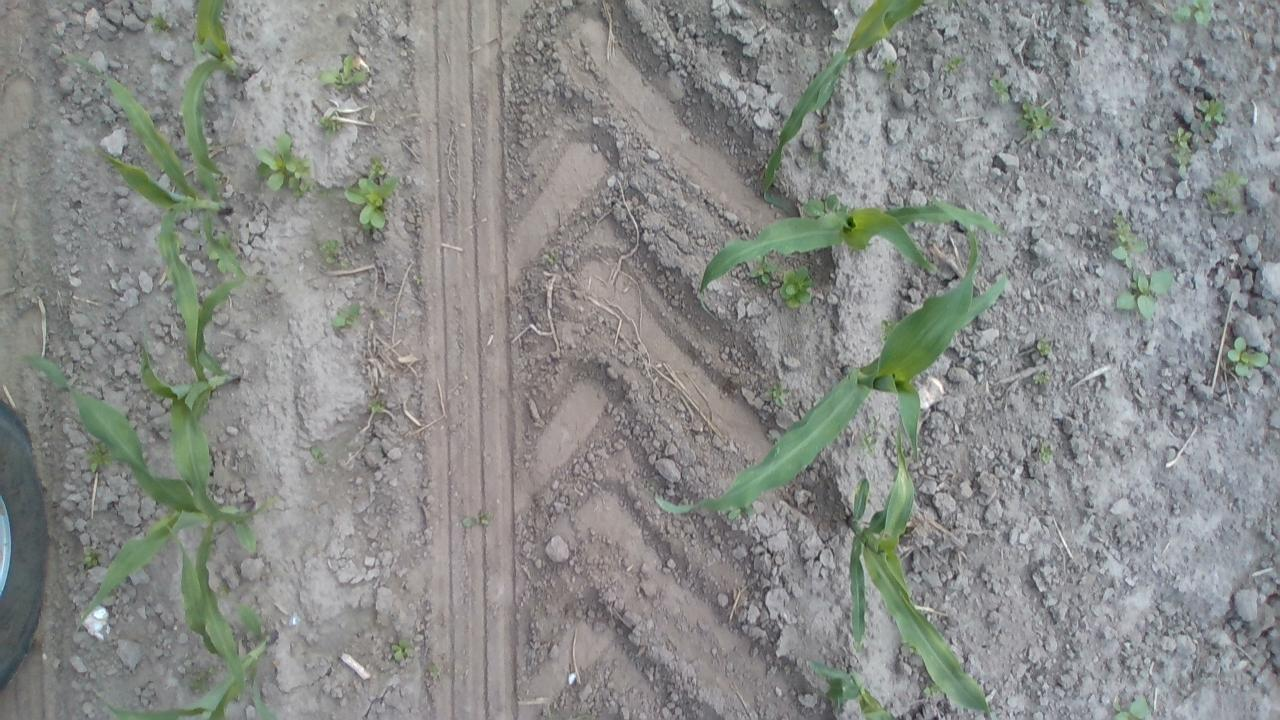Maize: (650, 225, 1011, 520), (22, 352, 268, 634), (63, 55, 233, 373), (694, 187, 1010, 322), (846, 428, 990, 720), (754, 0, 929, 217), (92, 519, 276, 720), (137, 272, 270, 521), (182, 0, 252, 179), (808, 654, 898, 720)
Weeds: (252, 132, 310, 197), (1114, 266, 1176, 320), (344, 176, 399, 232), (1105, 210, 1150, 270), (1224, 334, 1273, 378), (315, 54, 369, 92), (1203, 166, 1244, 214), (778, 262, 818, 309), (1019, 96, 1057, 142), (762, 376, 806, 413), (1195, 97, 1229, 136), (1170, 0, 1214, 30), (182, 662, 220, 694), (1110, 694, 1150, 720), (330, 300, 362, 330), (84, 440, 112, 474), (1168, 126, 1192, 165), (315, 236, 344, 266), (750, 257, 776, 288), (316, 116, 348, 140), (461, 509, 496, 530), (390, 634, 415, 663), (143, 10, 169, 34), (1034, 443, 1058, 468), (859, 428, 880, 456), (308, 444, 332, 466), (1032, 337, 1054, 359), (364, 157, 386, 178), (941, 55, 961, 76), (988, 76, 1006, 98), (1030, 370, 1052, 386), (882, 58, 898, 80), (365, 398, 383, 416), (215, 580, 232, 598), (83, 547, 99, 566), (425, 663, 442, 679), (313, 185, 330, 198), (923, 686, 938, 700), (870, 413, 884, 428)
